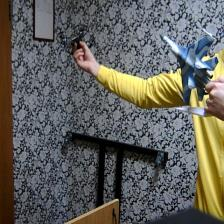drone: (56, 20, 99, 58)
